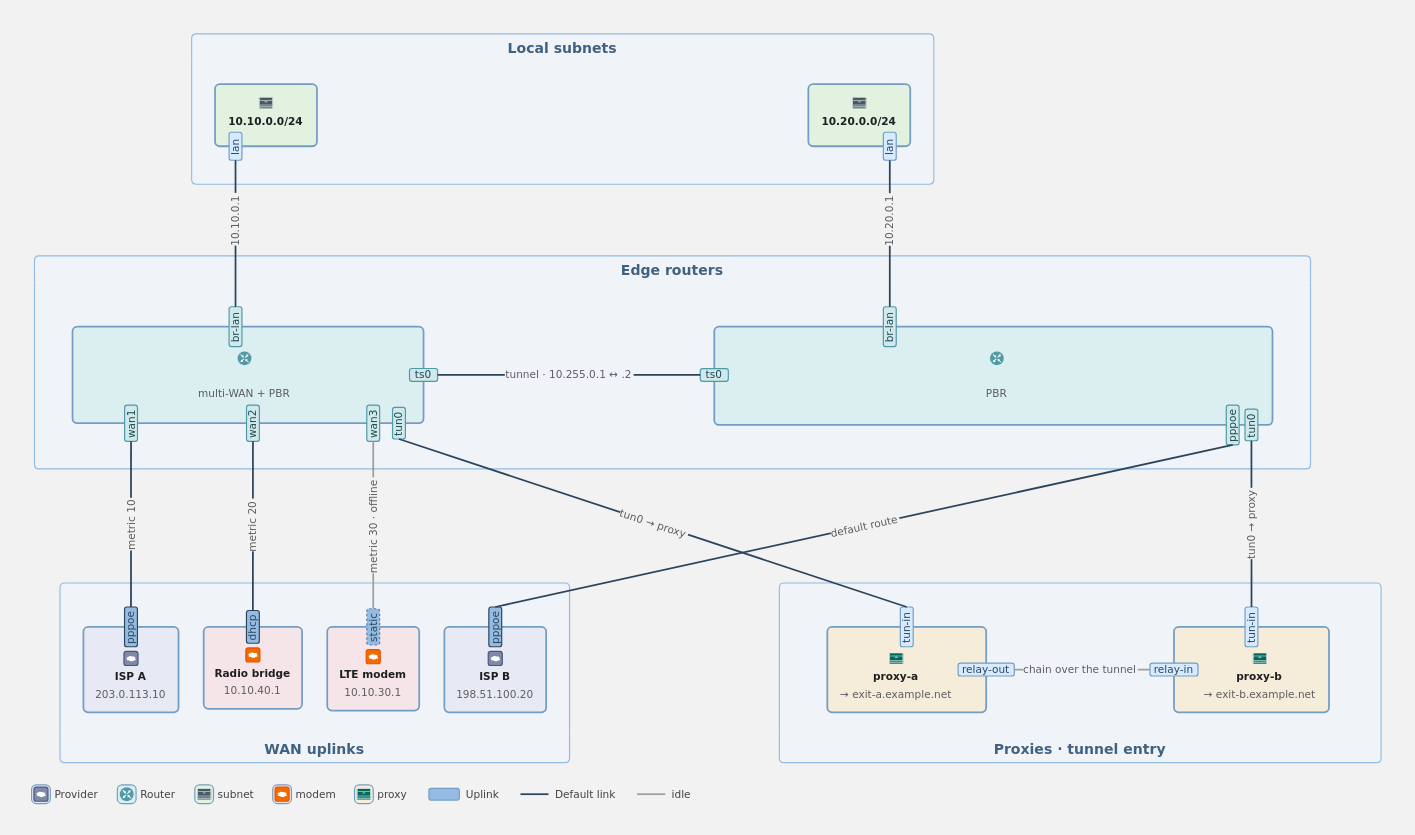
Some shapes in this 1415 by 835 pixel diagram are drawn without their labels. The centre of each missing label's shape, as x and y in pixels:
rtr-a: point 247,374
rtr-b: point 993,375
